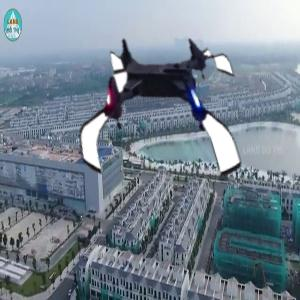drone: (68, 24, 247, 203)
